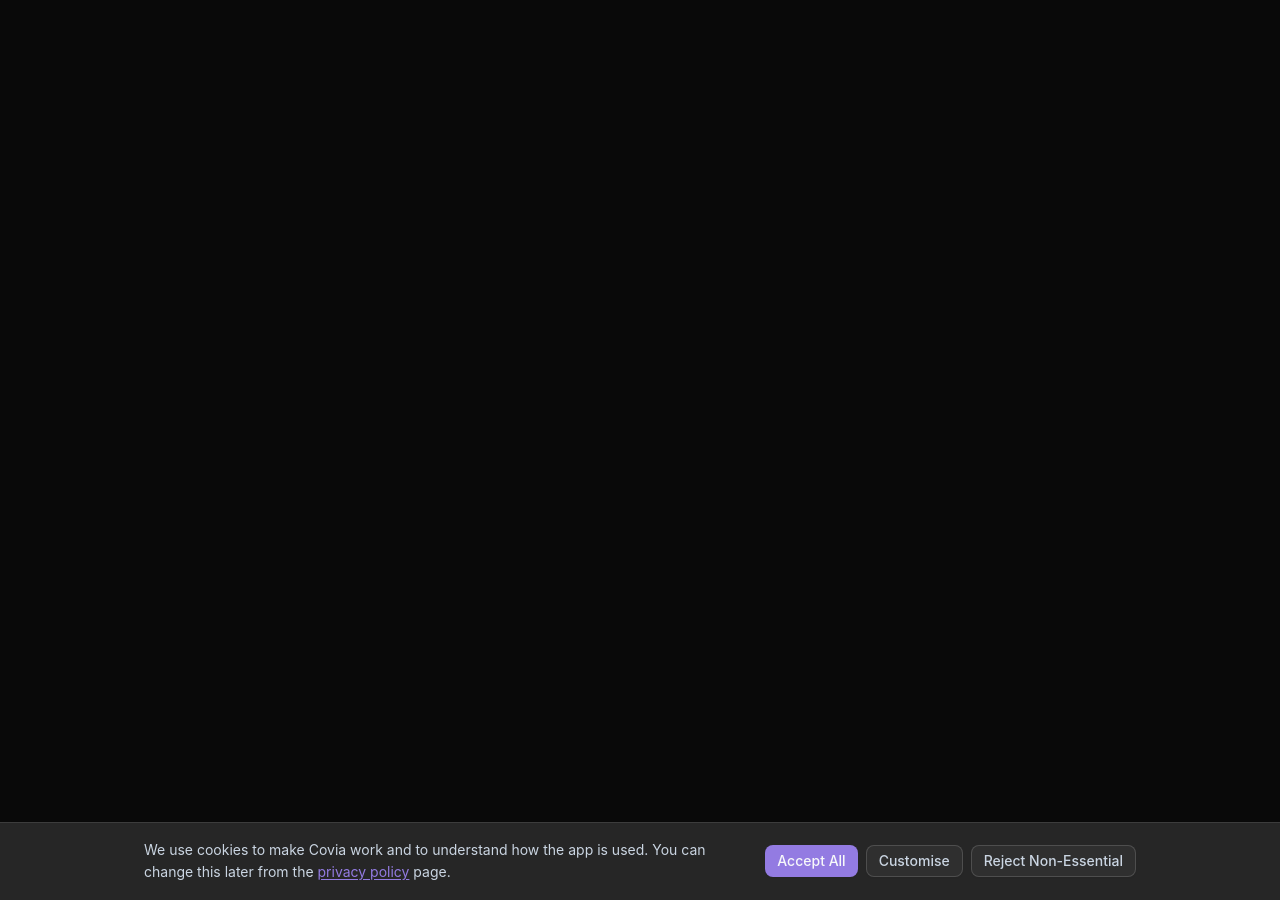
Test: CookieConsentComponent › reopens for a user who wants to change their mind
Step 1. Click the button "Accept All" → (811, 861), box [765,845,858,877]
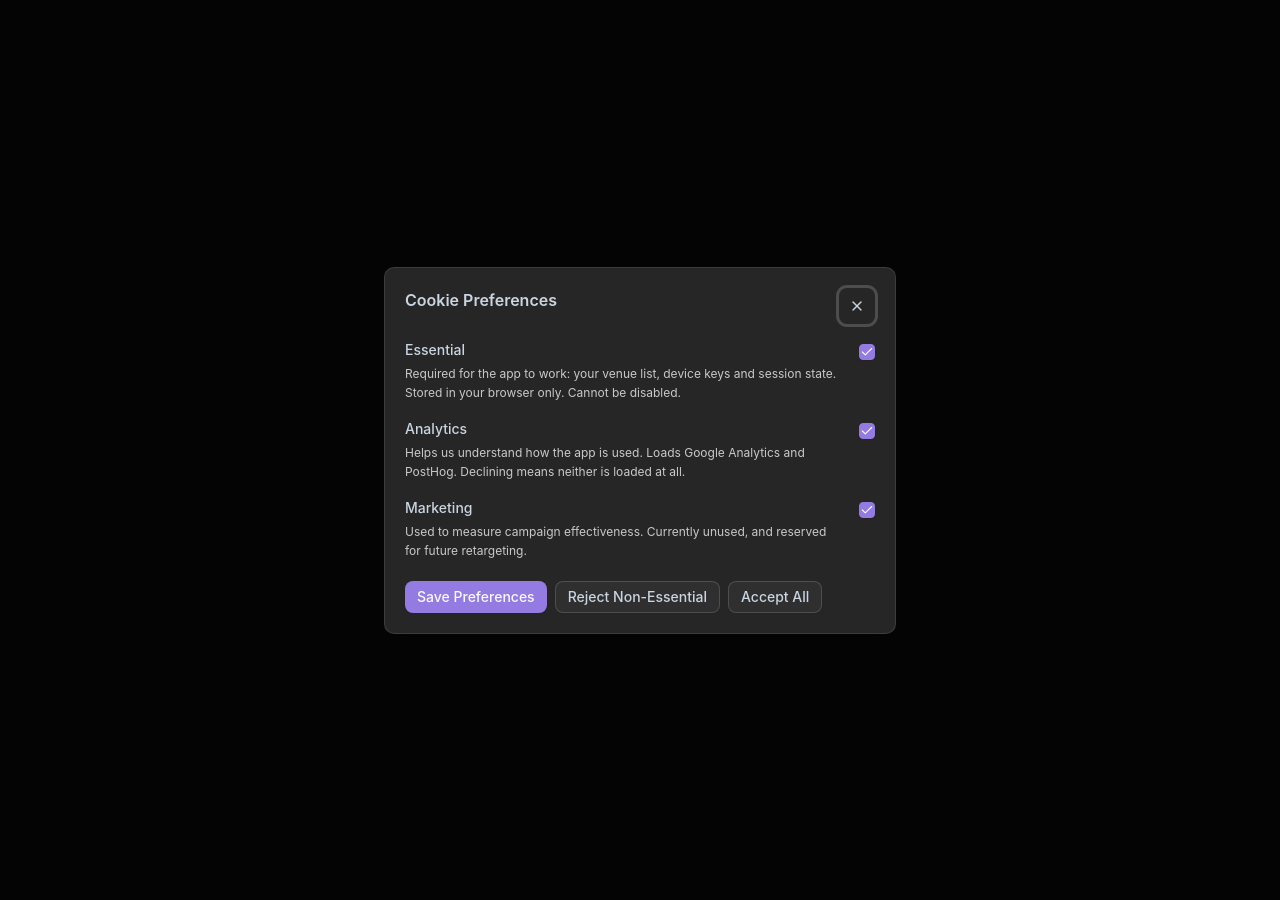
Check: the dialog "Cookie Preferences" is shown
Check: the checkbox named "Toggle Analytics" is checked, box [859,422,875,438]
